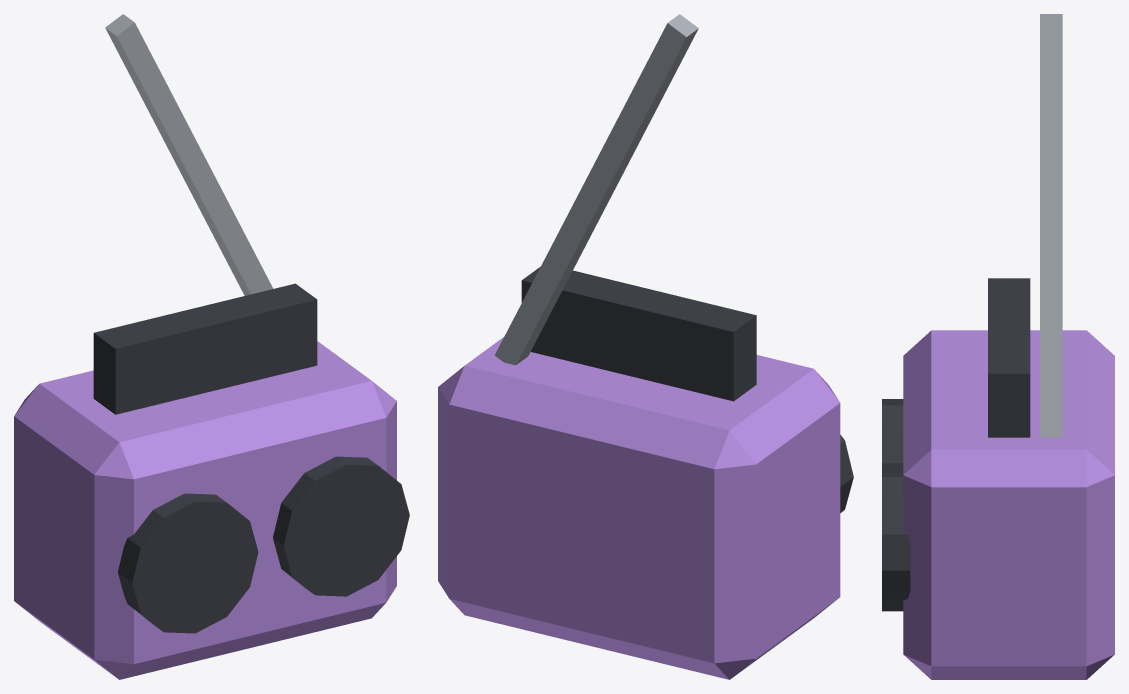
Rendered from headphones_m2_1.glb.
3 views of the same model, side by side, from view 1: azimuth 30°, elevation 25°; view 2: azimuth 150°, elevation 25°; view 3: azimuth 270°, elevation 25° (orthographic). The views are drawn at different scales.
Visible parts, largest first — view 1: headphones_m2_1_mesh; view 2: headphones_m2_1_mesh; view 3: headphones_m2_1_mesh.
Boxes of the visible parts, x1,y1,x2,y2 form: headphones_m2_1_mesh: (14,14,409,679); headphones_m2_1_mesh: (438,14,853,679); headphones_m2_1_mesh: (882,14,1114,679).
Bounding box in the file's own units: 0.24 × 0.4536 × 0.165.
